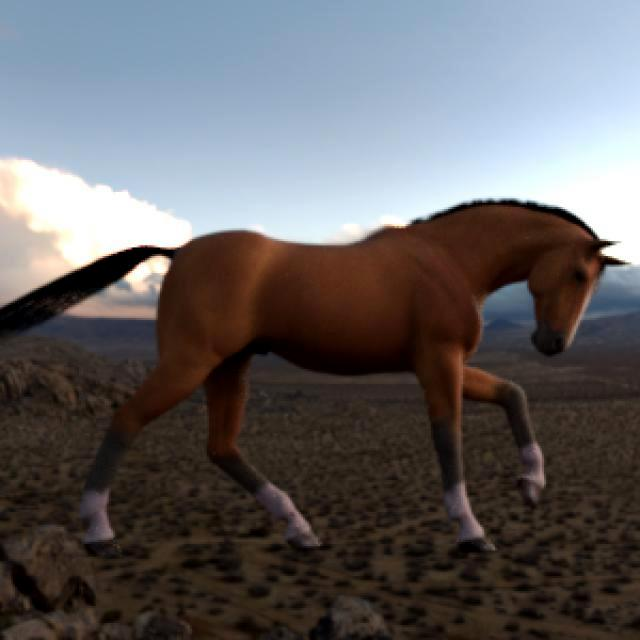horse: (0, 201, 621, 557)
